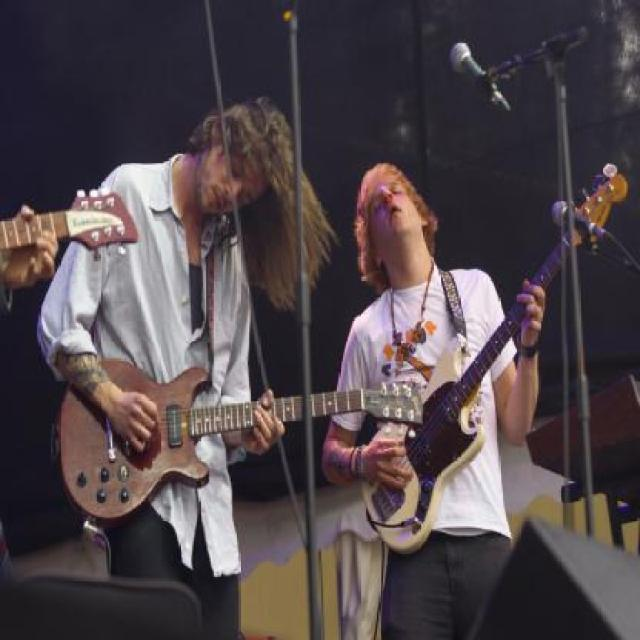Person: (40, 101, 334, 639), (323, 160, 542, 638), (0, 205, 57, 318)
